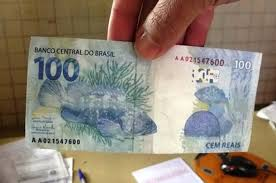billete: (25, 36, 263, 153)
